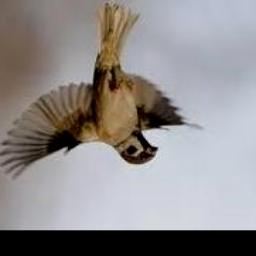Sparrow: (0, 3, 204, 181)
